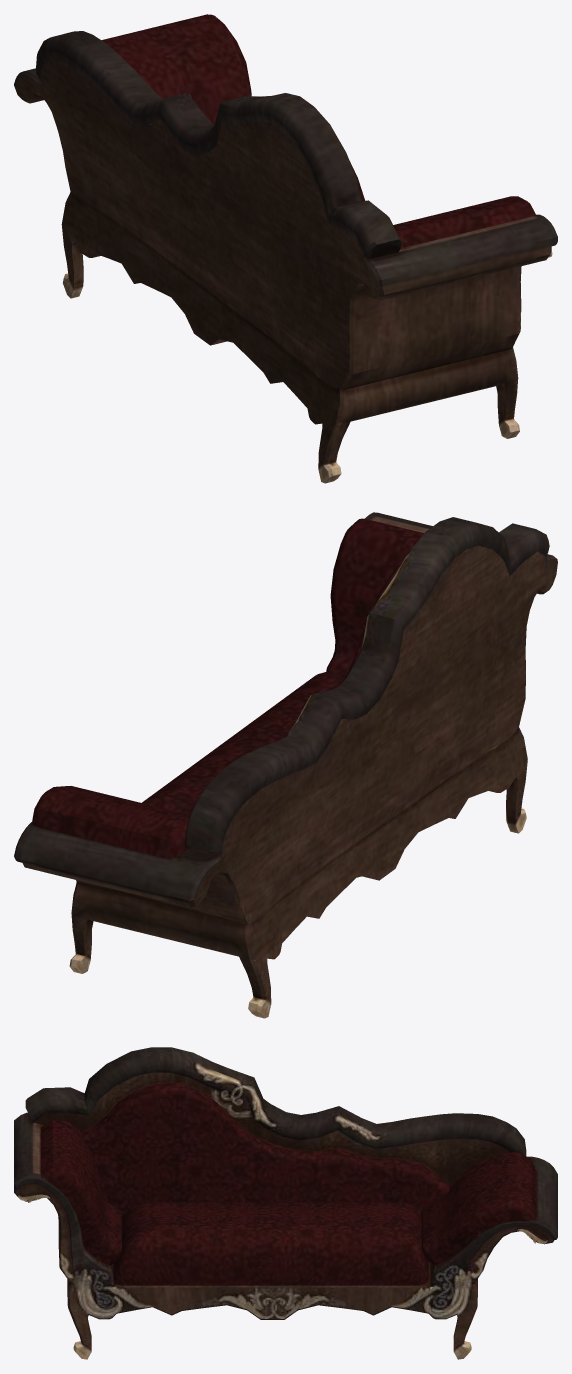
The model's file is sofa.glb.
3 renders of one model, top to bottom at view 1: azimuth 30°, elevation 25°; view 2: azimuth 150°, elevation 25°; view 3: azimuth 270°, elevation 25°, orthographic. The views are drawn at different scales.
Parts seen in each view (by area): view 1: g; view 2: g; view 3: g.
Part boxes in pixels (x1,y1,x2,y2): g: (14, 14, 557, 483); g: (14, 512, 557, 1018); g: (14, 1047, 557, 1359).
Size of the model in its own units: 0.5996 by 1.01 by 2.
1 material, 1 textured.
